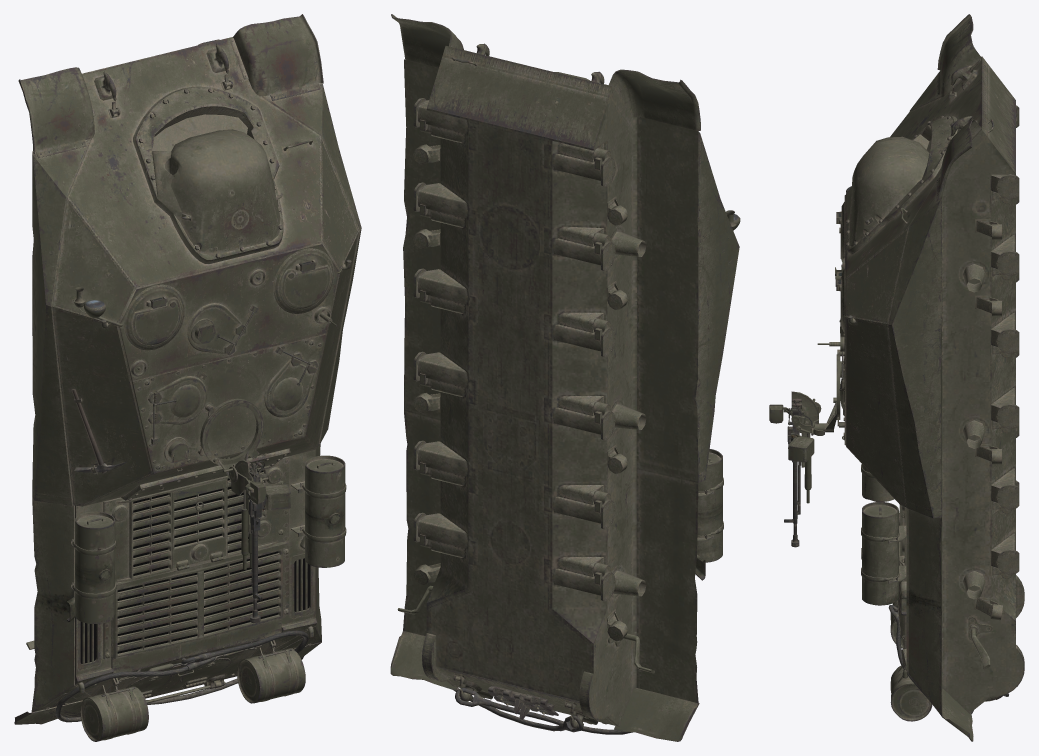
File: Hull.glb
3 renders of one model, left to right at view 1: azimuth 30°, elevation 25°; view 2: azimuth 150°, elevation 25°; view 3: azimuth 270°, elevation 25°, orthographic. The views are drawn at different scales.
Parts seen in each view (by area): view 1: set_0_group_0; view 2: set_0_group_0; view 3: set_0_group_0.
Part boxes in pixels (box(x1,y1,x2,y2)): set_0_group_0: box(14, 14, 361, 741); set_0_group_0: box(390, 14, 740, 741); set_0_group_0: box(769, 14, 1024, 741).
Bounding box in the file's own units: 3.42 × 6.87 × 2.6.
Materials: 1 (1 with a texture image).
